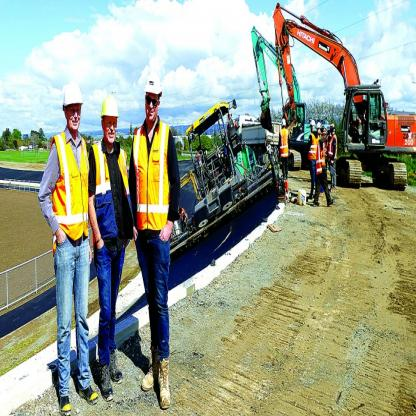person: (38, 63, 94, 415), (130, 72, 182, 412), (90, 76, 134, 410)
